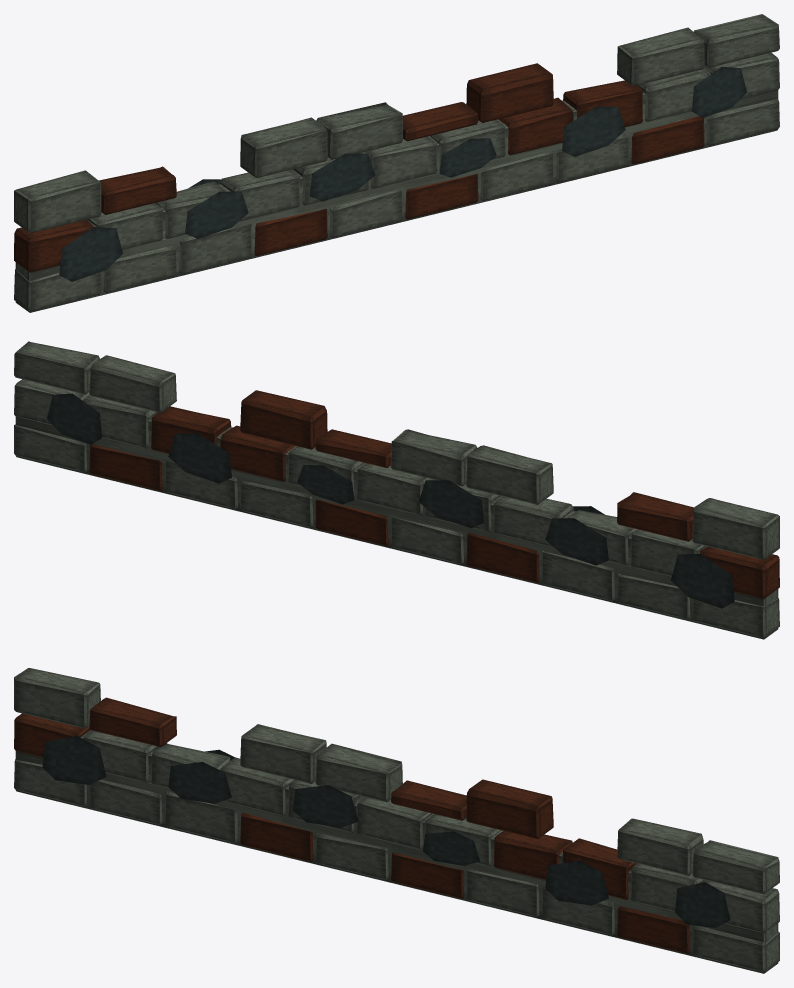
The model's file is THStage_BackBoundary.fbx.
The picture shows the model from 3 angles, top to bottom: view 1: azimuth 30°, elevation 25°; view 2: azimuth 150°, elevation 25°; view 3: azimuth 330°, elevation 25°; orthographic projection.
Parts seen in each view (by area): view 1: THStage_BackBoundary.029; view 2: THStage_BackBoundary.029; view 3: THStage_BackBoundary.029.
Boxes of the visible parts, x1,y1,x2,y2 form: THStage_BackBoundary.029: (14,14,779,312); THStage_BackBoundary.029: (14,341,779,639); THStage_BackBoundary.029: (14,668,779,973).
Bounding box in the file's own units: 4.63 × 0.6822 × 0.178.
1 material, 1 textured.
